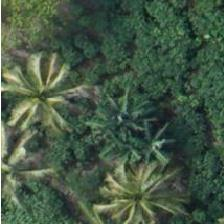Kelapa_Sawit: (0, 50, 86, 140), (96, 156, 186, 224), (0, 127, 58, 217)
